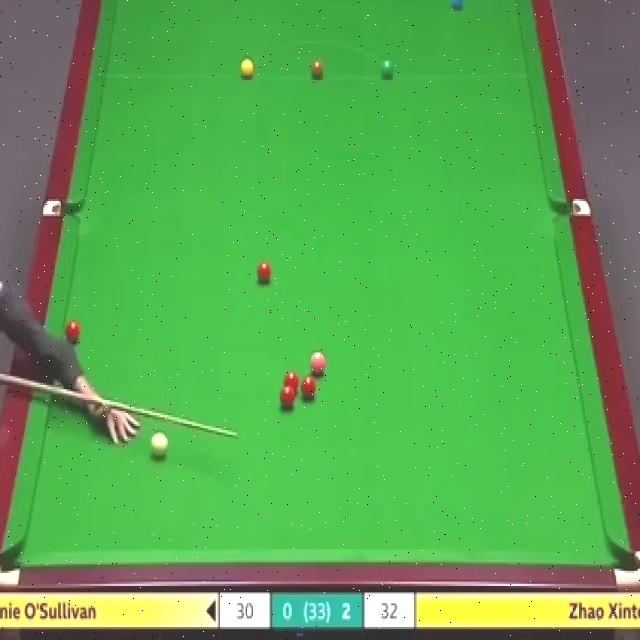blue-ball: (448, 0, 464, 11)
brown-ball: (310, 59, 325, 82)
green-ball: (380, 58, 394, 82)
pink-ball: (306, 351, 326, 377)
red-ball: (256, 259, 273, 286), (63, 319, 80, 345), (300, 375, 318, 399), (279, 386, 296, 411), (282, 371, 300, 393)
white-ball: (149, 428, 169, 459)
yellow-ball: (240, 58, 255, 80)
